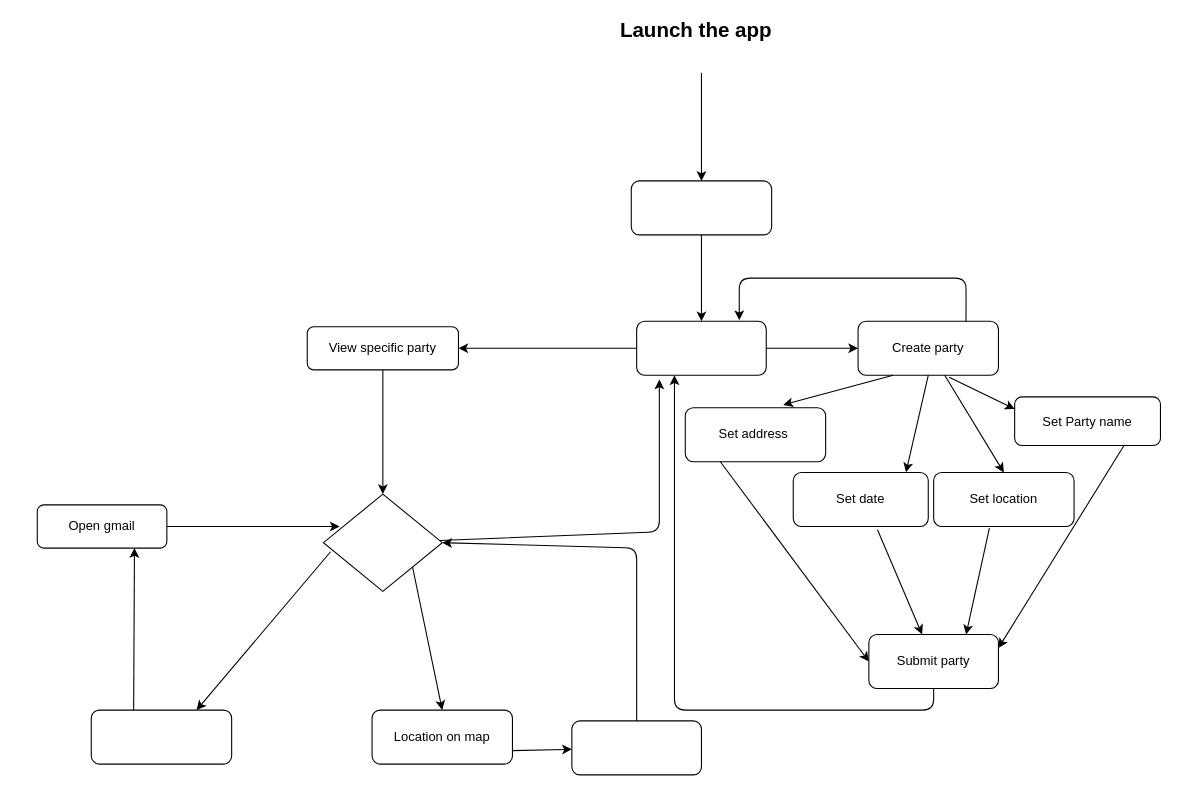
This 1179x794 diagram has some shape labels left out. Here are the shapes that lost their labels. From the top down, the centre of each, then its label:
(701,207): Login
(701,347): View available parties
(382,542): View details
(161,736): Send invitations
(636,747): Open Google Maps with location
